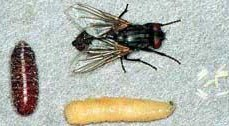house fly: (65, 1, 189, 80)
